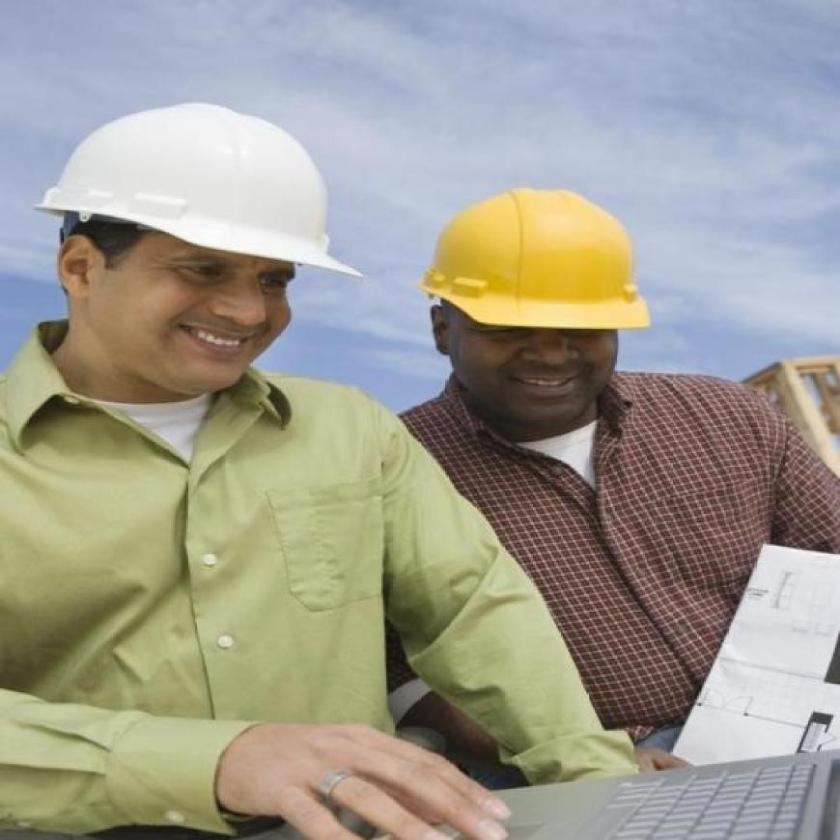Con_casco: (41, 95, 328, 384), (406, 160, 659, 432)
